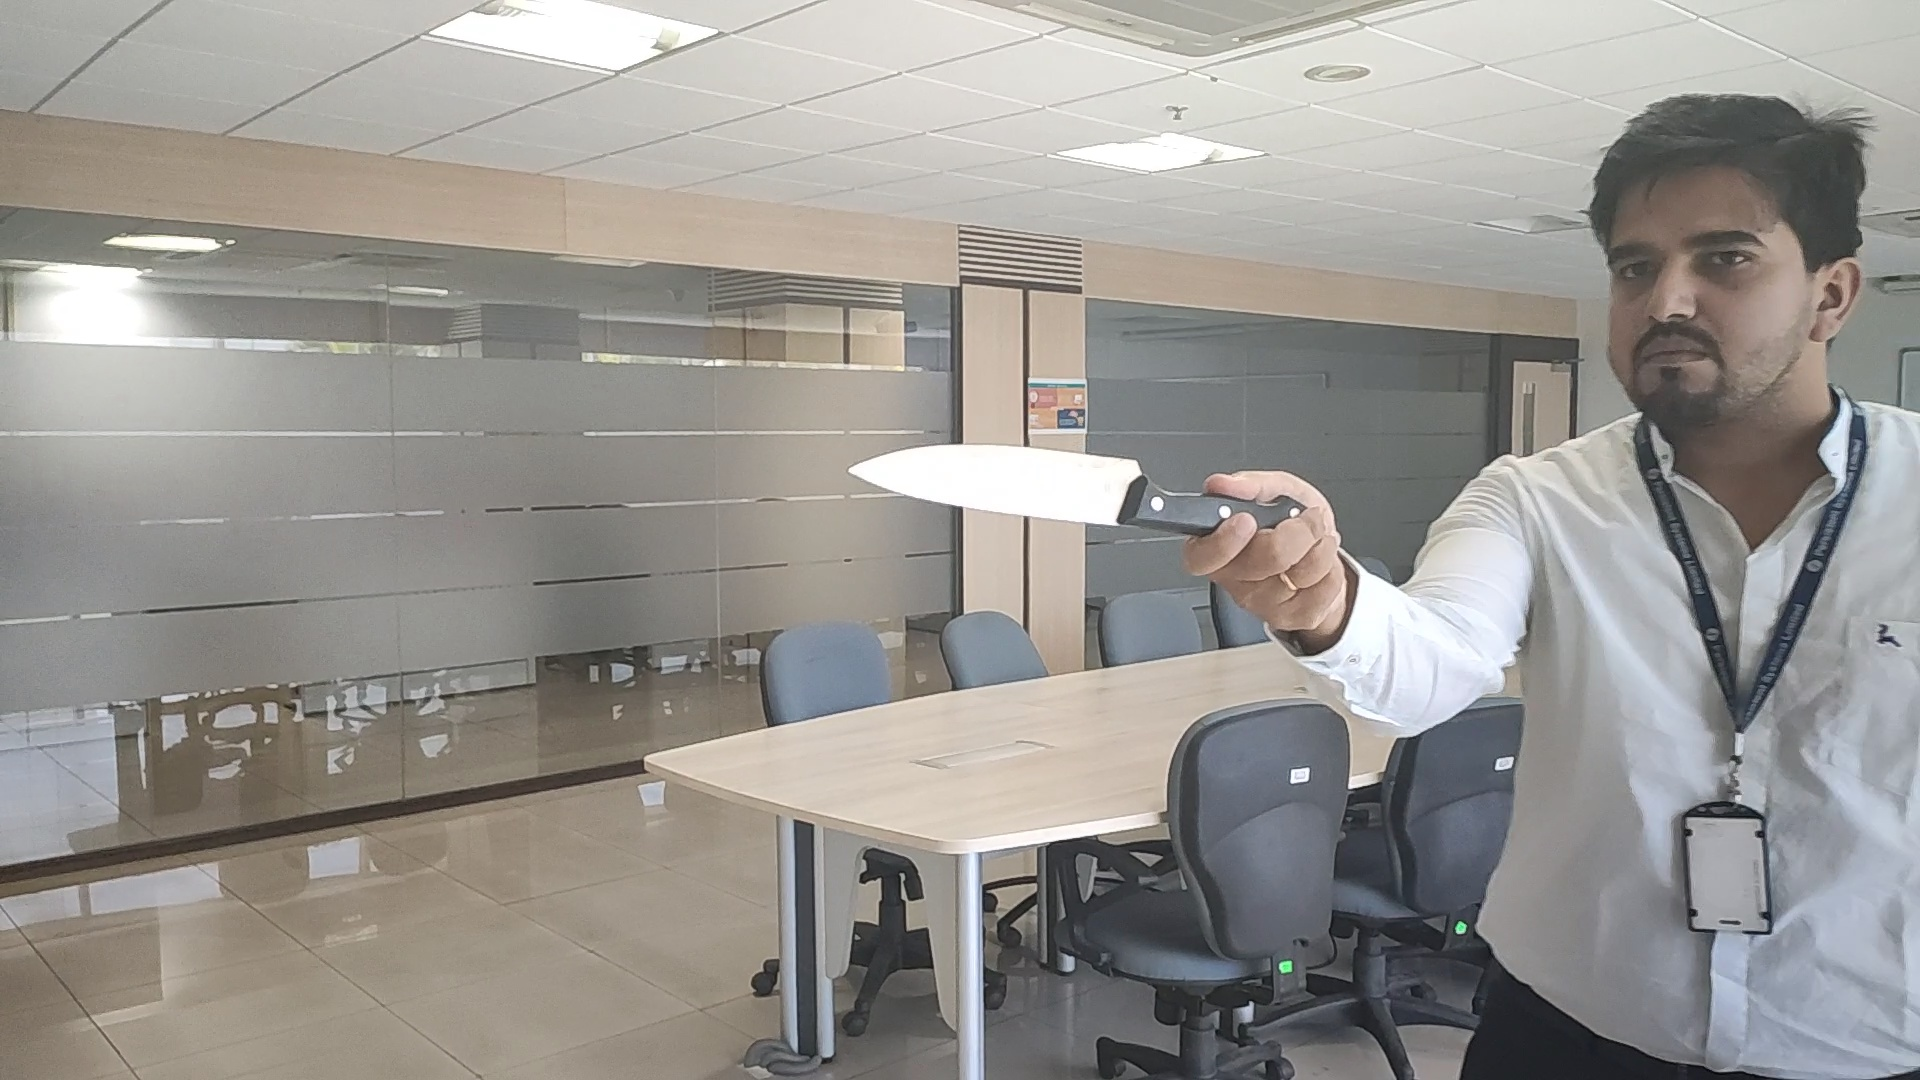knife: (845, 442, 1213, 531)
